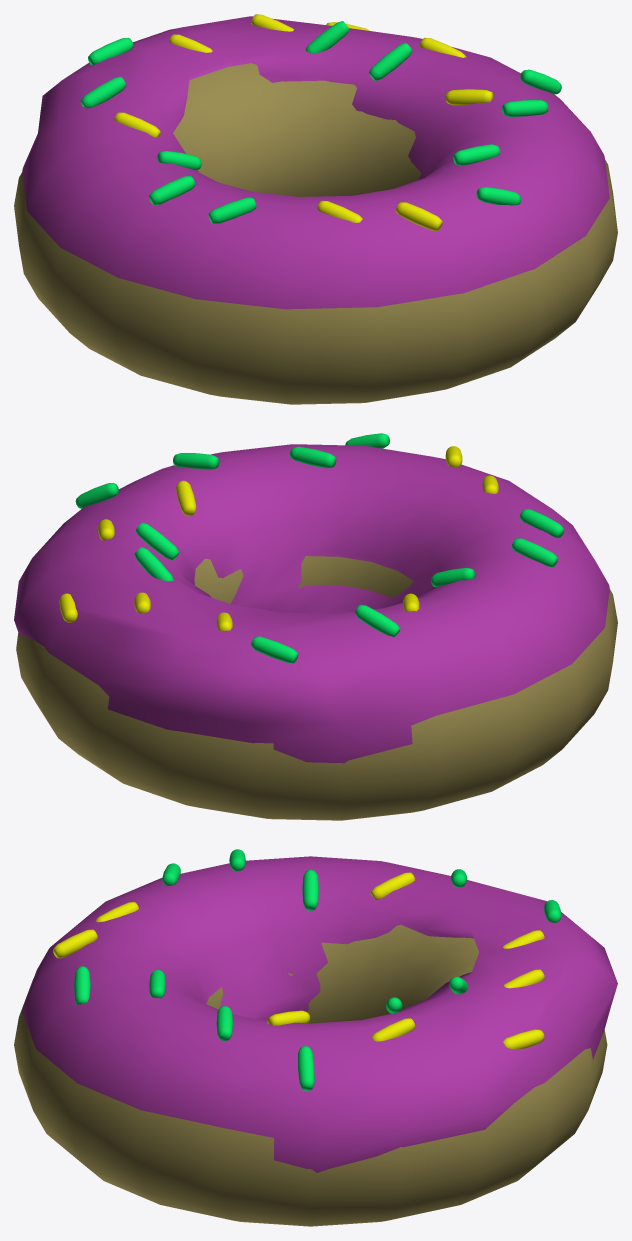
Rendered from donut.fbx.
The picture shows the model from 3 angles, top to bottom: view 1: azimuth 30°, elevation 25°; view 2: azimuth 150°, elevation 25°; view 3: azimuth 270°, elevation 25°; orthographic projection. The views are drawn at different scales.
Parts seen in each view (by area): view 1: pTorus3; view 2: pTorus3; view 3: pTorus3.
Boxes of the visible parts, box(x1,y1,x2,y2) form: pTorus3: box(14, 14, 617, 404); pTorus3: box(14, 433, 617, 820); pTorus3: box(14, 849, 617, 1226).
Bounding box in the file's own units: 3.01 × 1.15 × 3.05.
